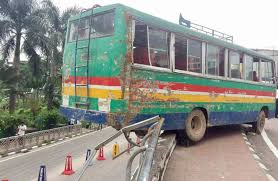bus: (59, 6, 276, 139)
